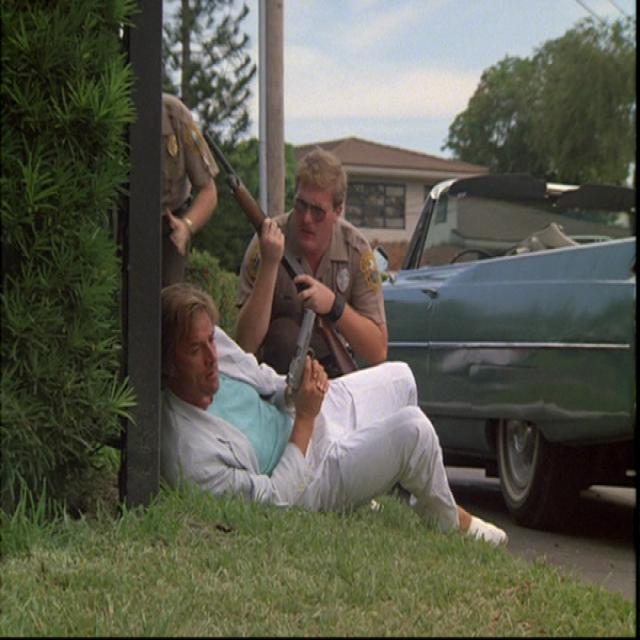rifle: (201, 127, 361, 378)
